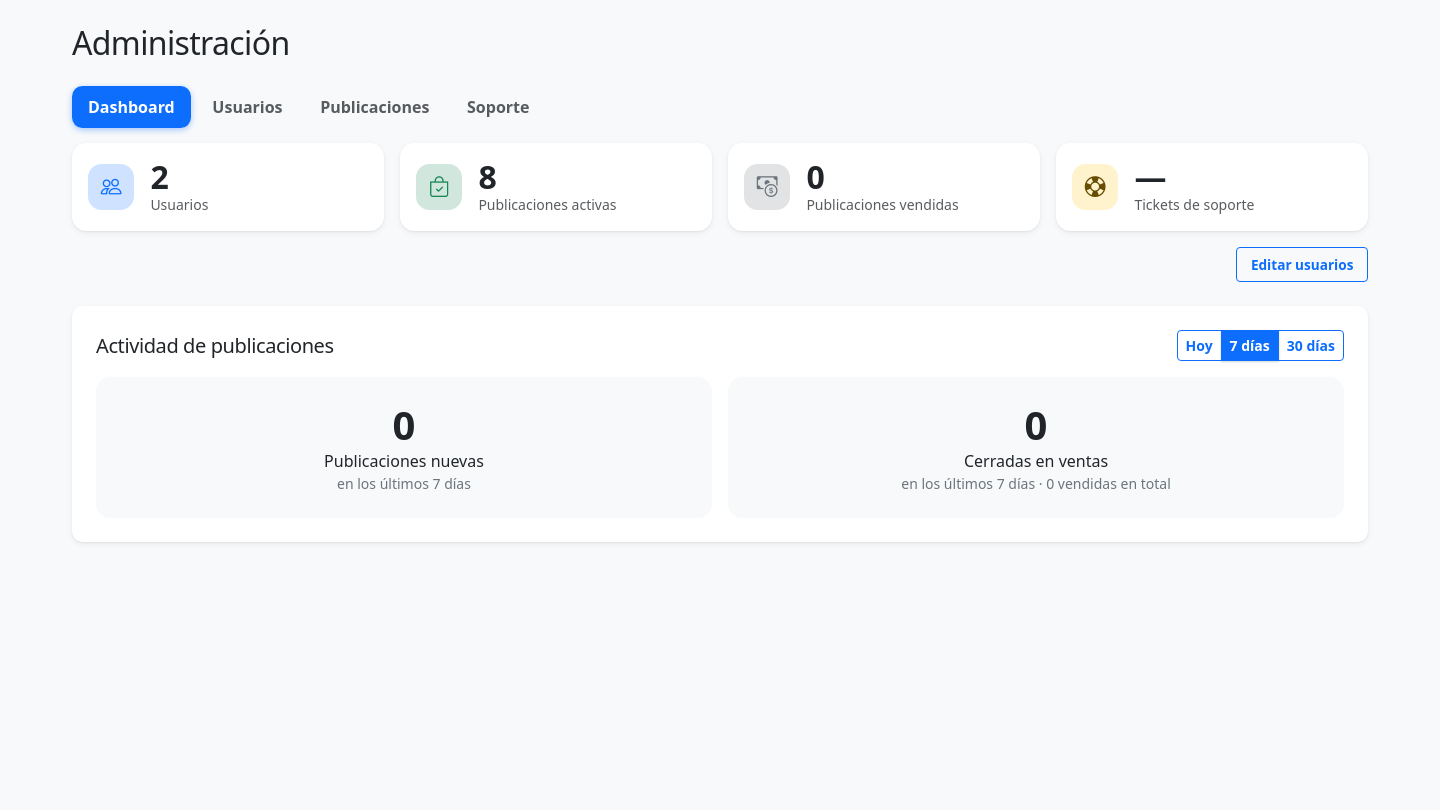
Test: AdminPage (modo simulado) › cada usuario tiene un botón Editar que abre la ventana con sus datos actuales y un único botón de guardado
Click the tab "Usuarios": x=247, y=107 [196, 86, 298, 128]
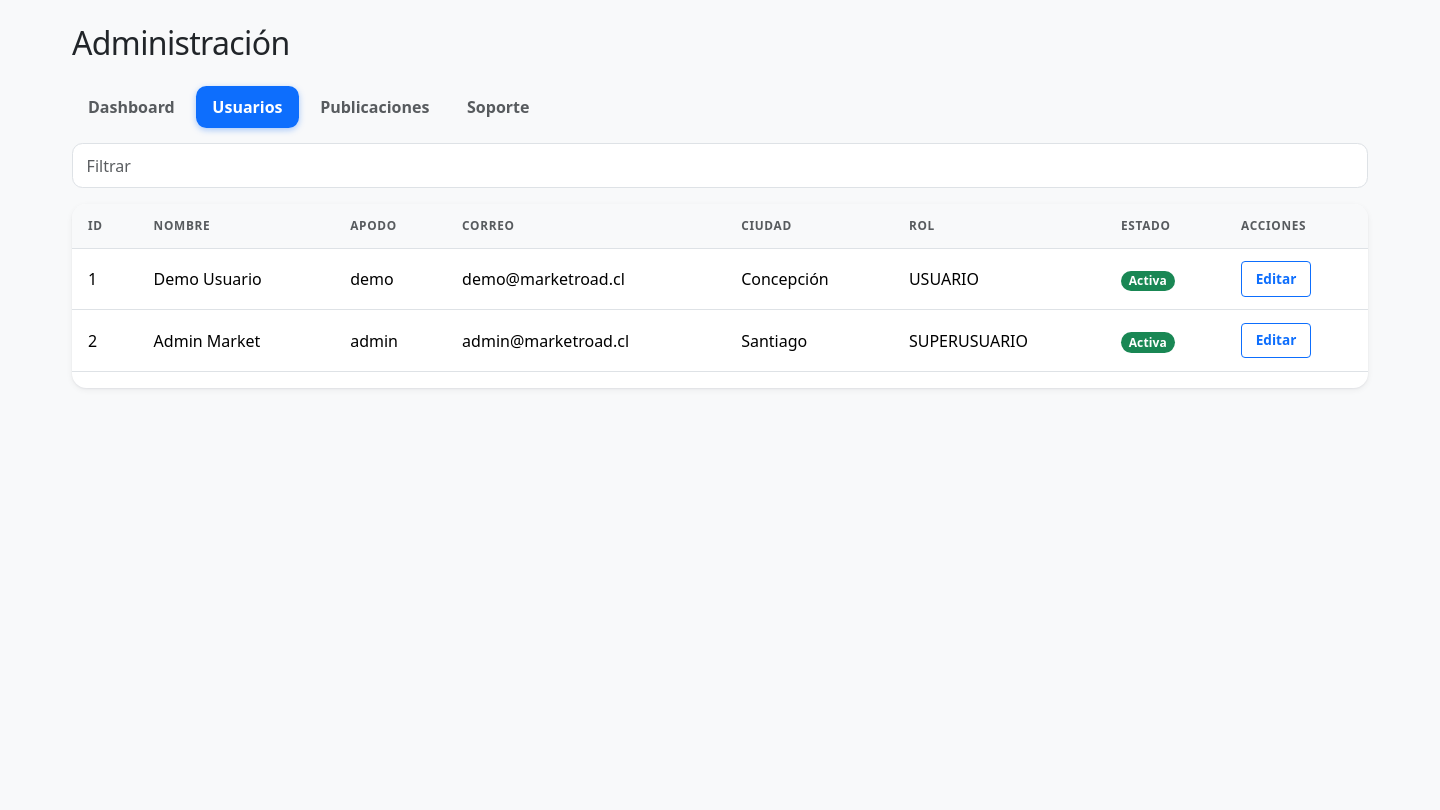
Click the button with aria-label "Editar a demo": x=1276, y=279 [1241, 261, 1311, 296]
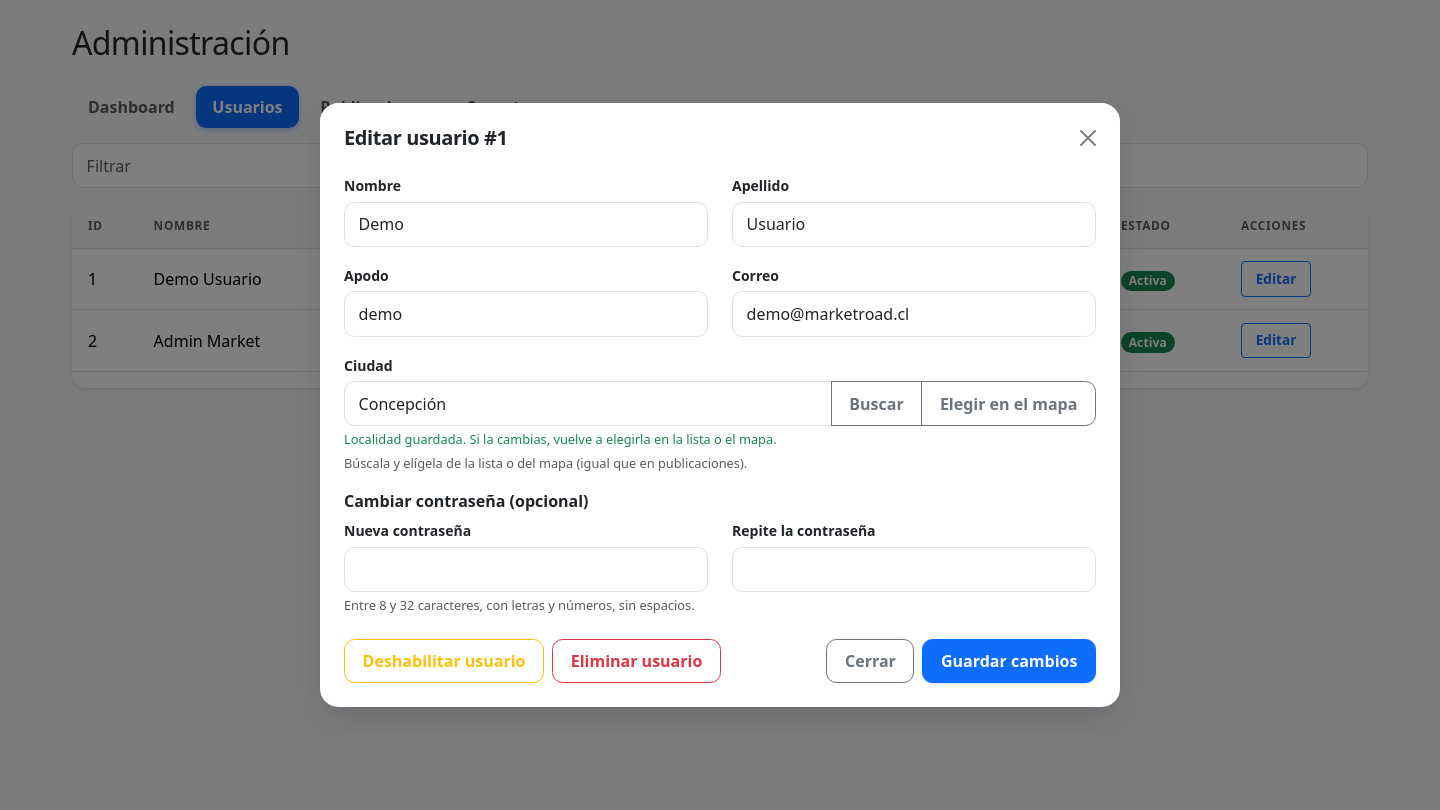
Now the field with id "adminNombre" holds "Demo", box [344, 202, 708, 247]
Now the field with id "adminApellido" holds "Usuario", box [732, 202, 1096, 247]
Now the field with id "adminApodo" holds "demo", box [344, 291, 708, 337]
